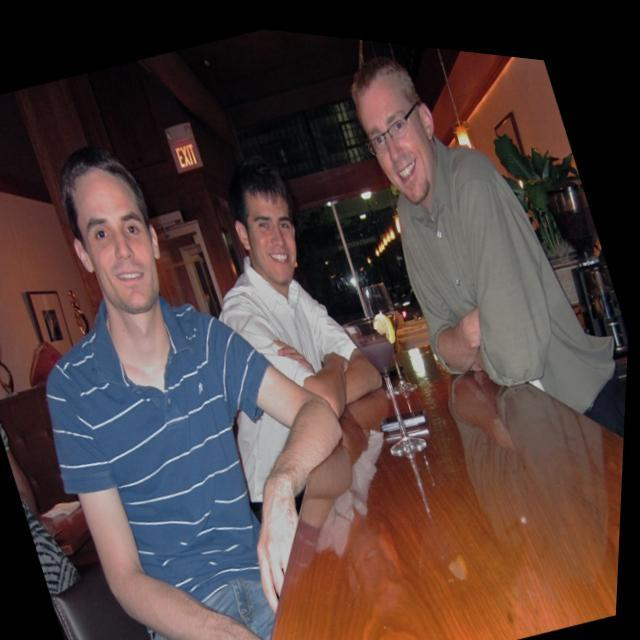Nonhelmet: (340, 49, 466, 215), (56, 143, 167, 316), (220, 149, 304, 283)
